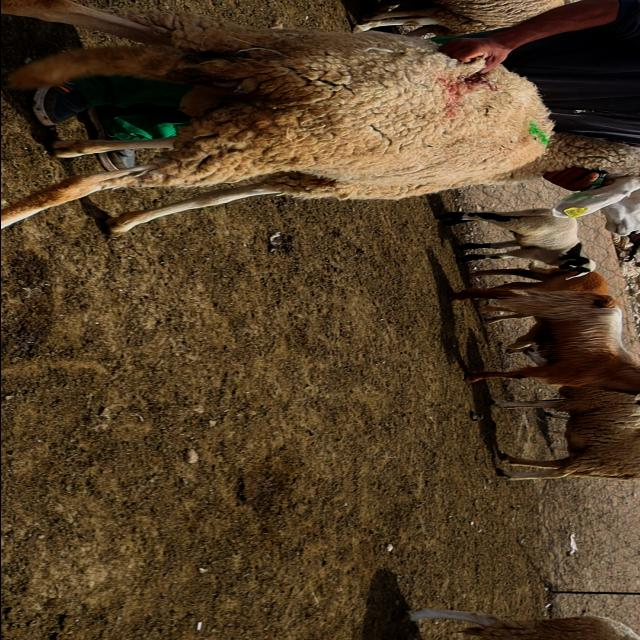Score_1: (1, 0, 640, 236)
